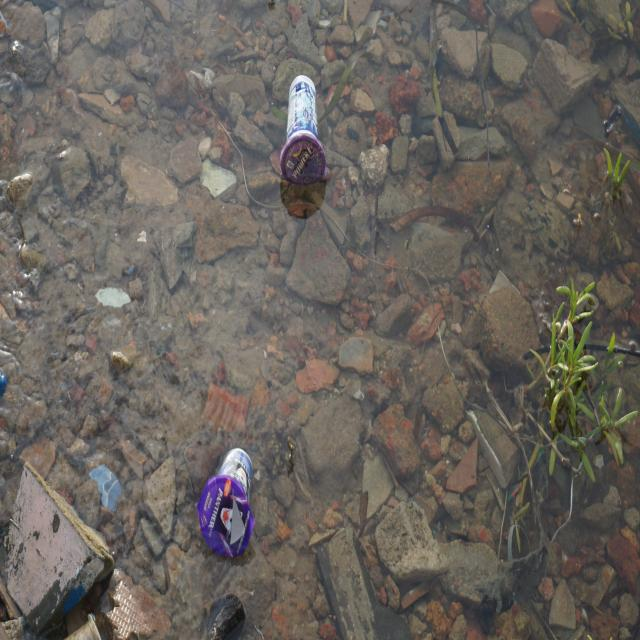Bungkus Minuman: (195, 441, 258, 560), (279, 71, 329, 188)
